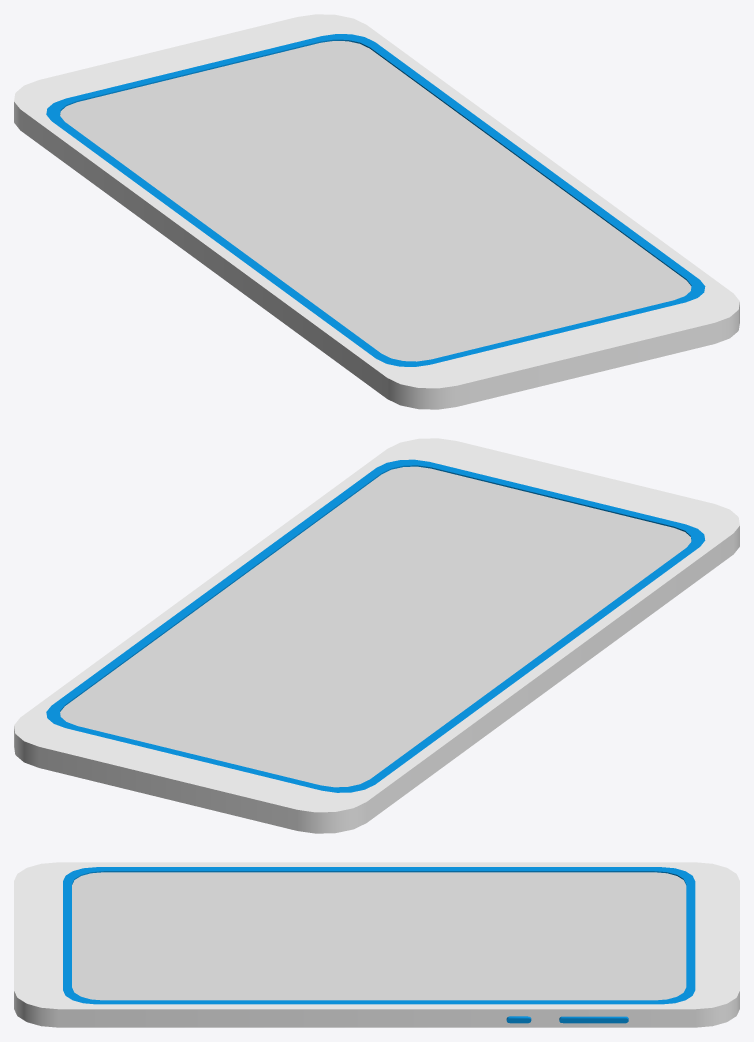
Rendered from SM_Smartphone.fbx.
3 renders of one model, top to bottom at view 1: azimuth 30°, elevation 25°; view 2: azimuth 150°, elevation 25°; view 3: azimuth 270°, elevation 25°, orthographic. The views are drawn at different scales.
Visible parts, largest first — view 1: Smartphone_screen, Smartphone_body, Smartphone_details; view 2: Smartphone_screen, Smartphone_body, Smartphone_details; view 3: Smartphone_screen, Smartphone_body, Smartphone_details.
Boxes of the visible parts, x1,y1,x2,y2 form: Smartphone_screen: [60, 41, 691, 361]; Smartphone_body: [14, 14, 739, 409]; Smartphone_details: [46, 34, 705, 366]; Smartphone_screen: [60, 466, 691, 787]; Smartphone_body: [14, 438, 739, 833]; Smartphone_details: [46, 459, 705, 792]; Smartphone_screen: [72, 872, 686, 1000]; Smartphone_body: [14, 862, 739, 1027]; Smartphone_details: [63, 867, 695, 1023].
Bounding box in the file's own units: 7.59 × 0.5273 × 15.67.
